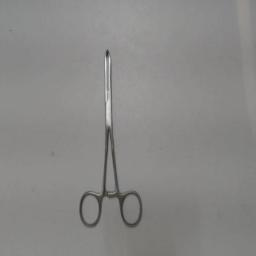Allis Tissue Forceps: (76, 41, 148, 229)
